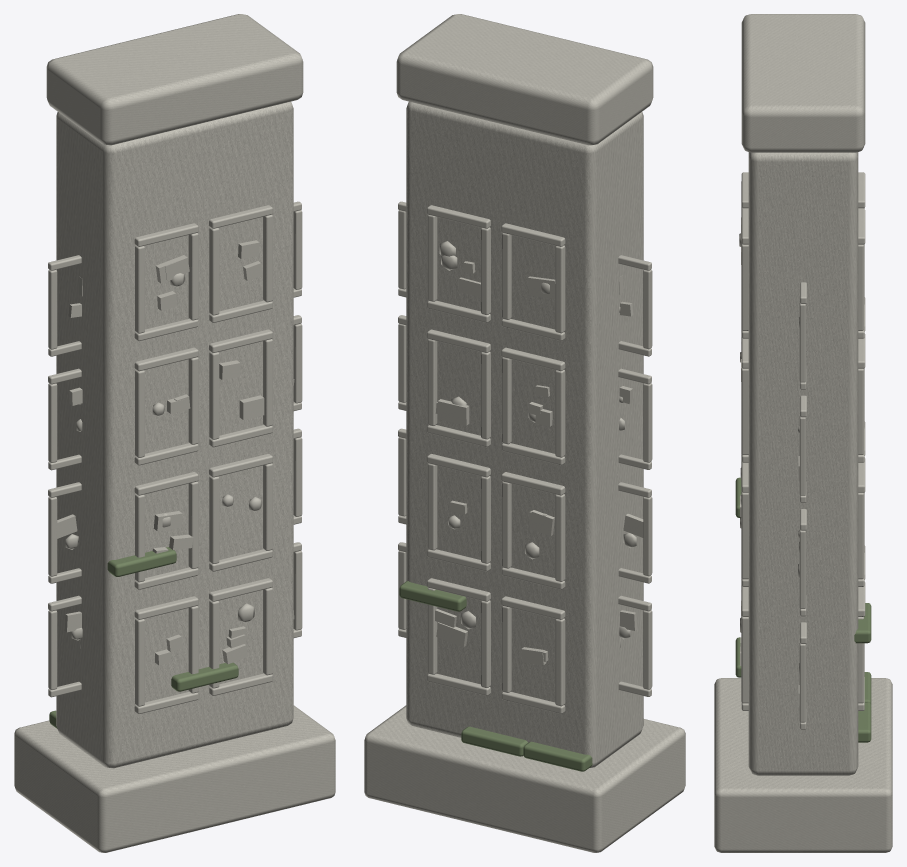
Rendered from jungle-temple-and-stone-city-carved-stela-48ee84fc__36125.glb.
The picture shows the model from 3 angles, left to right: view 1: azimuth 30°, elevation 25°; view 2: azimuth 150°, elevation 25°; view 3: azimuth 270°, elevation 25°; orthographic projection.
Parts seen in each view (by area): view 1: carved-stela; view 2: carved-stela; view 3: carved-stela.
Boxes of the visible parts, <box> form: carved-stela: <box>14,14,335,852</box>; carved-stela: <box>364,14,685,852</box>; carved-stela: <box>714,14,892,852</box>.
Size of the model in its own units: 1.22 by 3.42 by 0.7498.
2 materials, 2 textured.
